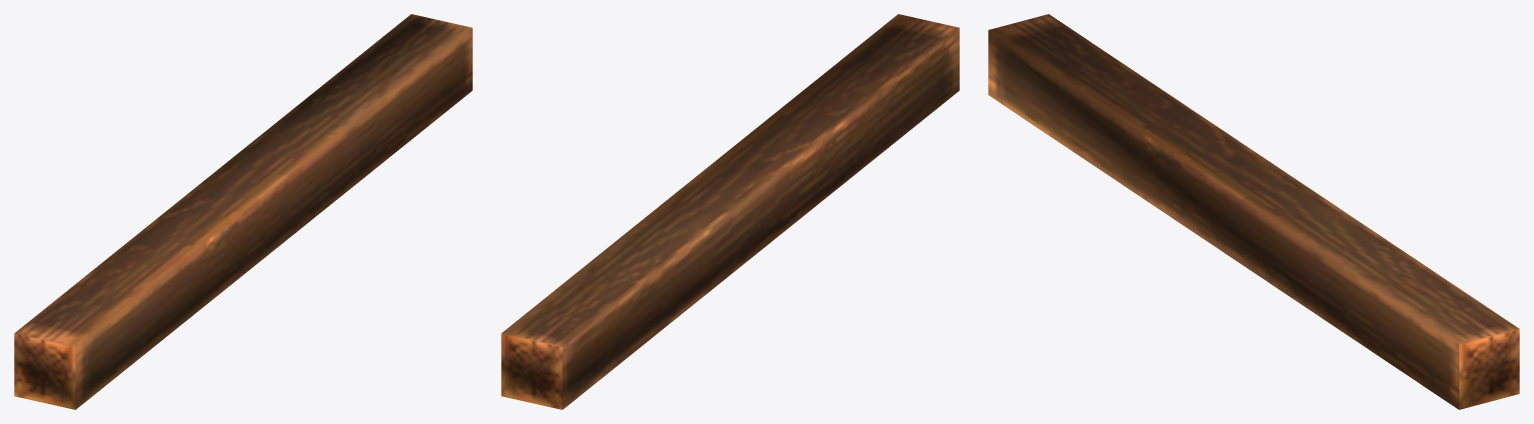
The model's file is SWORDLIGHT20_JAILBRACE22.fbx.
3 views of the same model, side by side, from view 1: azimuth 30°, elevation 25°; view 2: azimuth 210°, elevation 25°; view 3: azimuth 270°, elevation 25° (orthographic). The views are drawn at different scales.
Visible parts, largest first — view 1: SWORDLIGHT20_JAILBRACE22; view 2: SWORDLIGHT20_JAILBRACE22; view 3: SWORDLIGHT20_JAILBRACE22.
Boxes of the visible parts, <box> form: SWORDLIGHT20_JAILBRACE22: <box>14,14,472,409</box>; SWORDLIGHT20_JAILBRACE22: <box>501,14,959,409</box>; SWORDLIGHT20_JAILBRACE22: <box>988,14,1519,409</box>.
Bounding box in the file's own units: 43747 × 4000 × 29685.
Materials: 1 (1 with a texture image).
